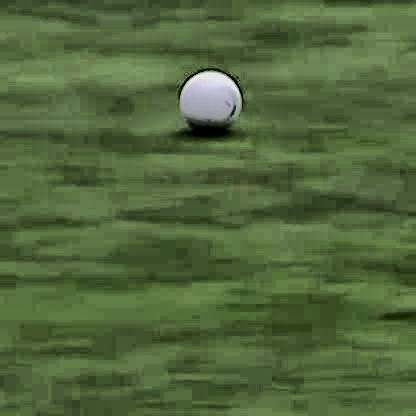golfball: (176, 64, 238, 129)
